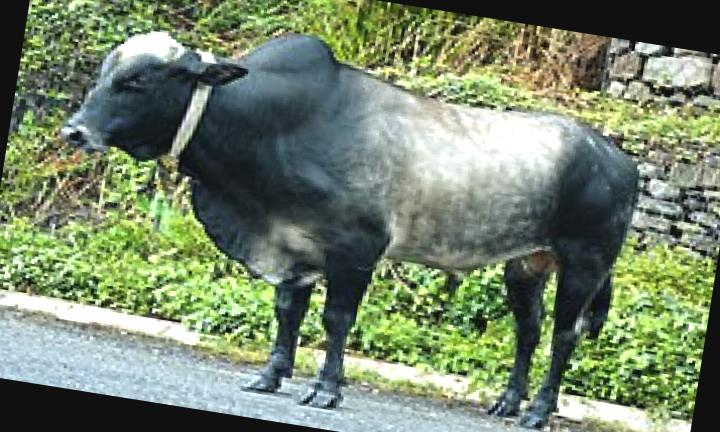Brahman: (64, 33, 638, 425)
